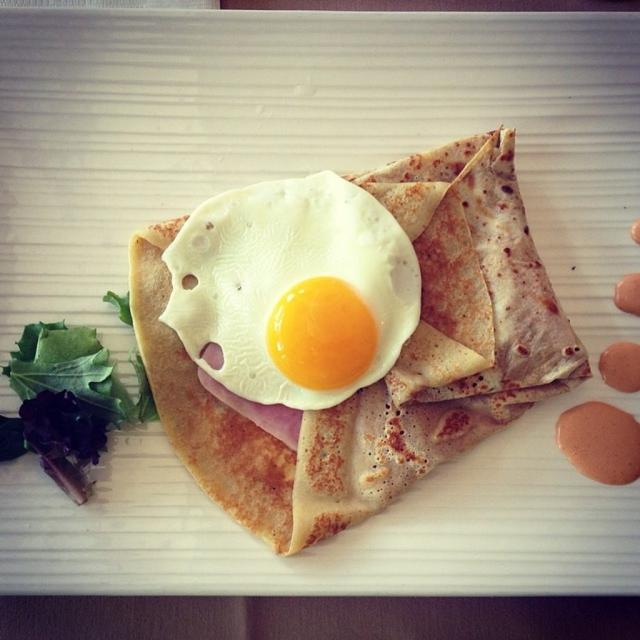Egg: (154, 166, 422, 413)
